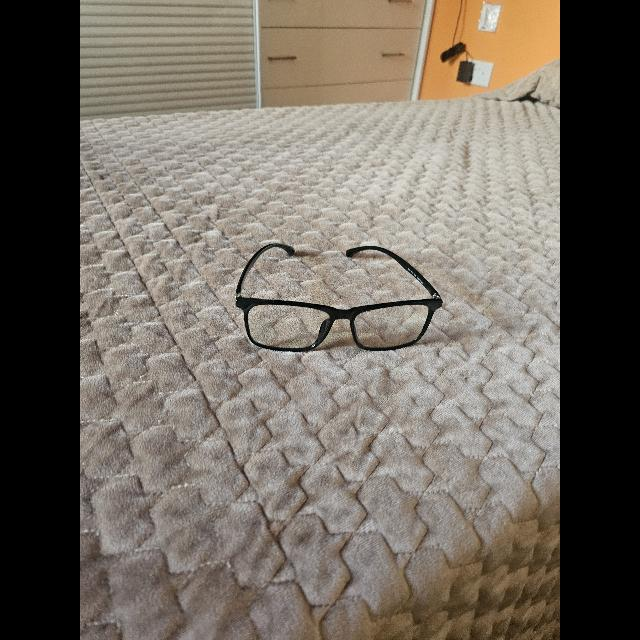glasses: (235, 243, 442, 351)
